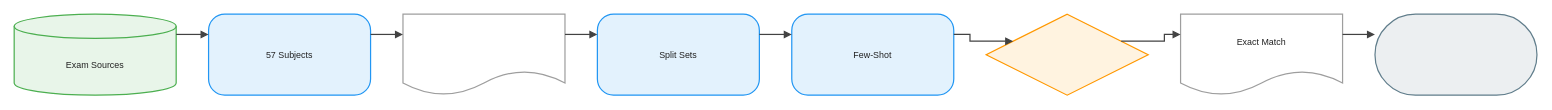
The diagram is 1552 pixels wide and 110 high, and some of its shapes have lost their labels. Here are the shapes that lost their labels. From the top down, the centre of each, then its label:
At [483,54]: "MC Items".
At [1066,54]: "Model Choices".
At [1455,54]: "Avg Accuracy".
